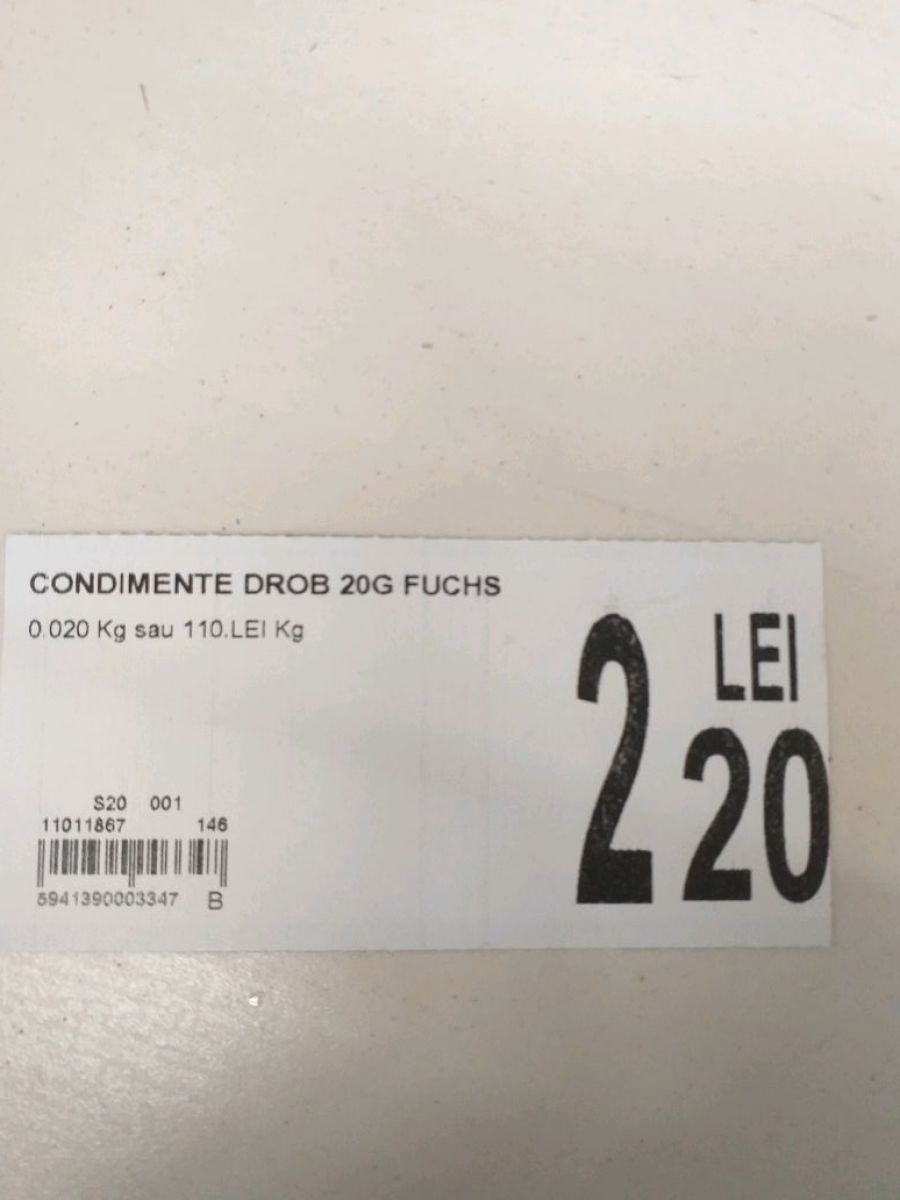price_bani: (673, 715, 846, 921)
price_lei: (556, 604, 665, 920)
price_tag: (1, 526, 856, 966)
product_id: (29, 886, 189, 915)
product_name: (14, 558, 515, 604)
